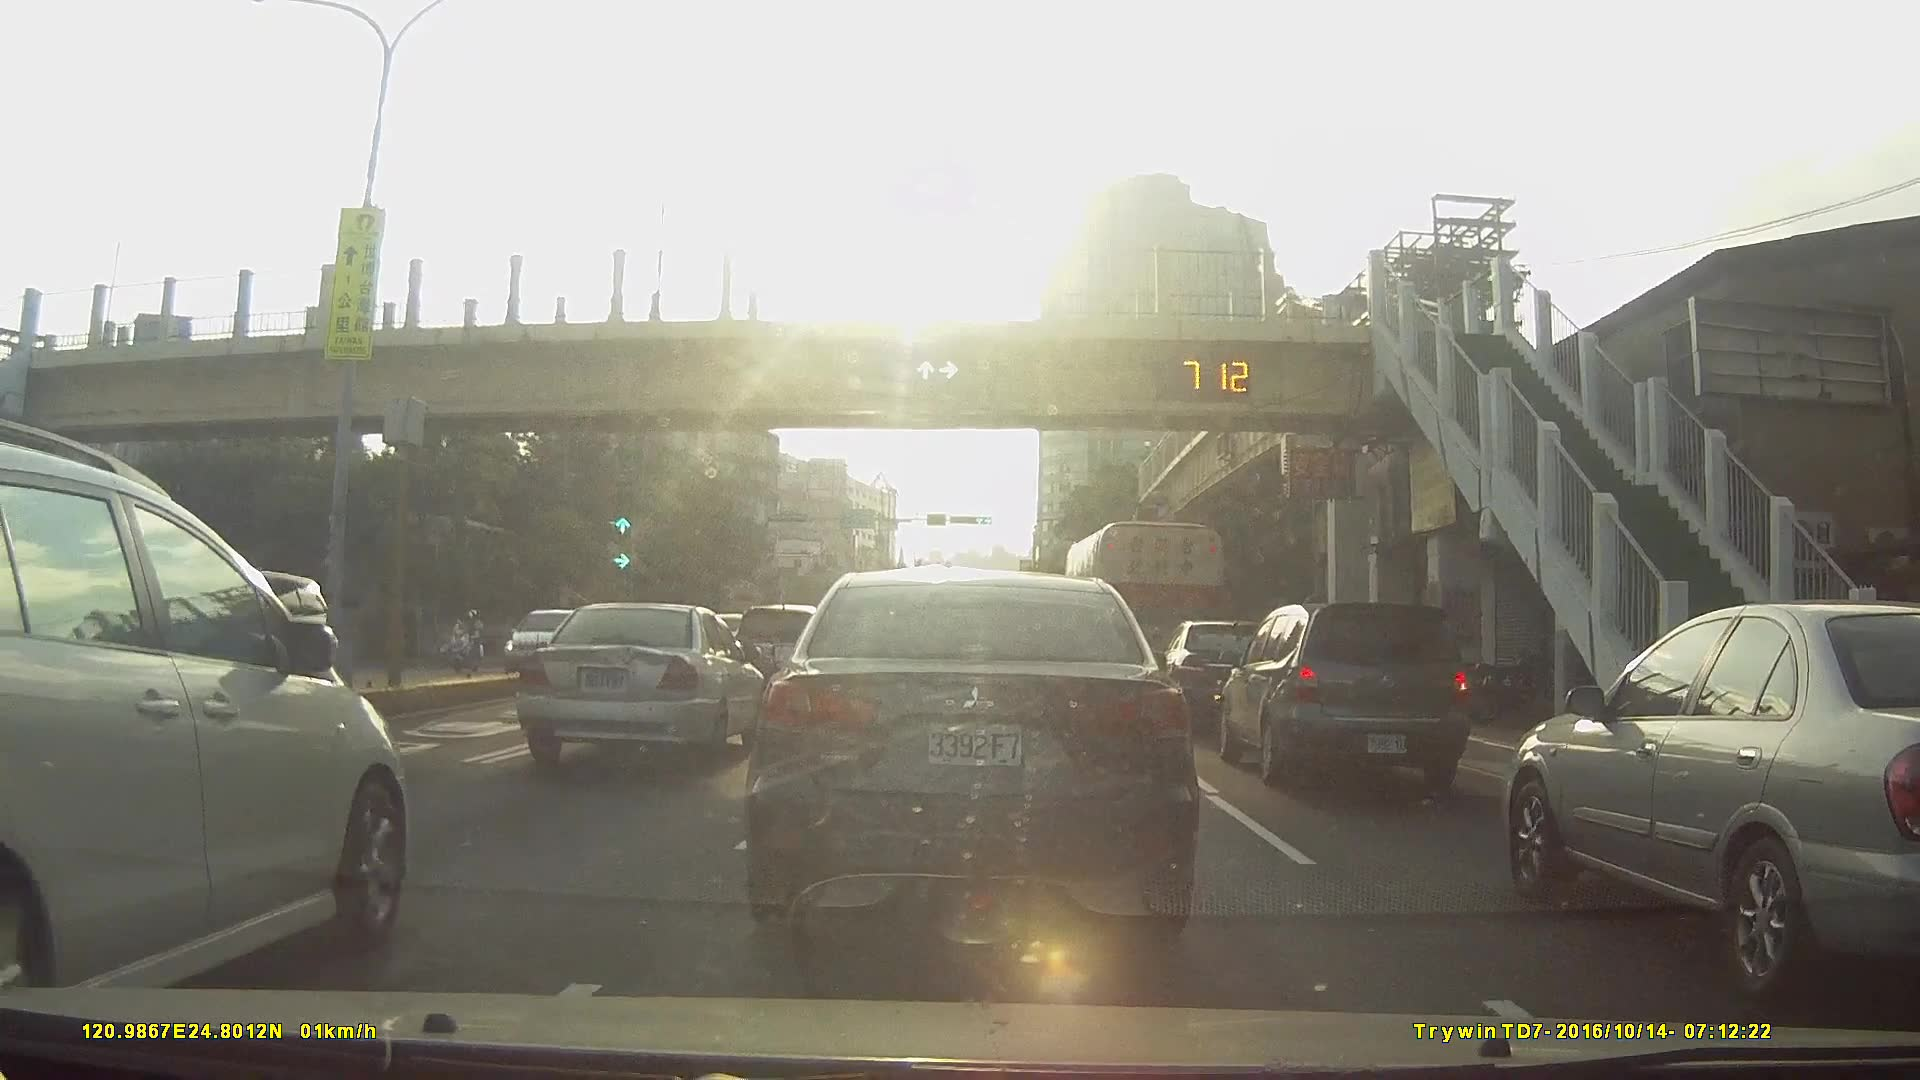rider: (445, 609, 487, 676)
vehicle: (0, 414, 424, 1028), (751, 563, 1199, 945), (1506, 598, 1920, 1007), (1217, 600, 1473, 790), (526, 602, 777, 764), (1159, 619, 1288, 725), (724, 601, 829, 705), (493, 607, 601, 674)
